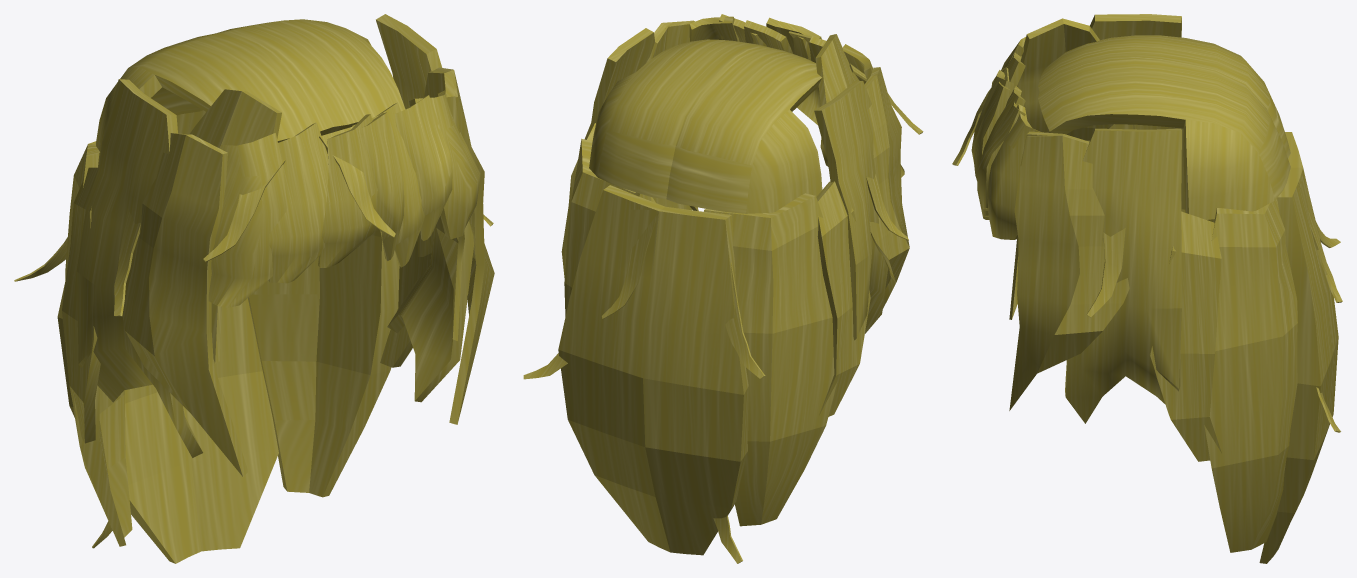
File: Hair.fbx
The picture shows the model from 3 angles, left to right: view 1: azimuth 30°, elevation 25°; view 2: azimuth 150°, elevation 25°; view 3: azimuth 270°, elevation 25°; orthographic projection. The views are drawn at different scales.
Visible parts, largest first — view 1: polySurface277; view 2: polySurface277; view 3: polySurface277.
Boxes of the visible parts, x1,y1,x2,y2 form: polySurface277: [14, 14, 494, 563]; polySurface277: [523, 14, 923, 563]; polySurface277: [952, 14, 1342, 563].
Size of the model in its own units: 13.66 by 19.45 by 13.85.
